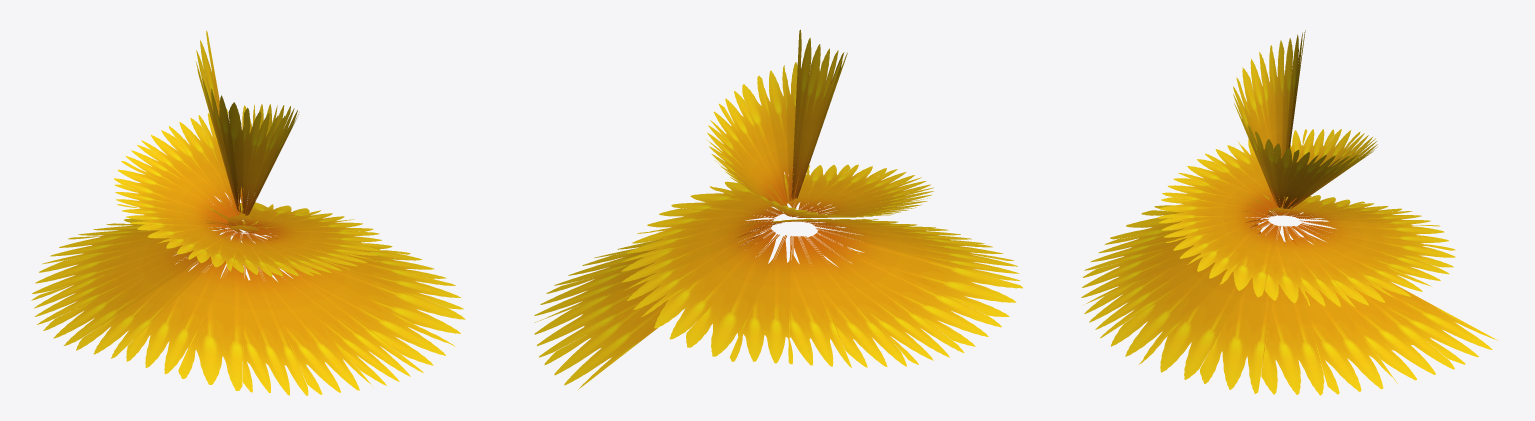
The model's file is CoralWorm_Yellow.FBX.
3 views of the same model, side by side, from view 1: azimuth 30°, elevation 25°; view 2: azimuth 150°, elevation 25°; view 3: azimuth 270°, elevation 25° (orthographic). The views are drawn at different scales.
Parts seen in each view (by area): view 1: CoralWorm_Yellow; view 2: CoralWorm_Yellow; view 3: CoralWorm_Yellow.
Boxes of the visible parts, <box> form: CoralWorm_Yellow: <box>31,30,465,395</box>; CoralWorm_Yellow: <box>534,29,1022,389</box>; CoralWorm_Yellow: <box>1081,30,1498,395</box>.
Bounding box in the file's own units: 121 × 87.15 × 125.
